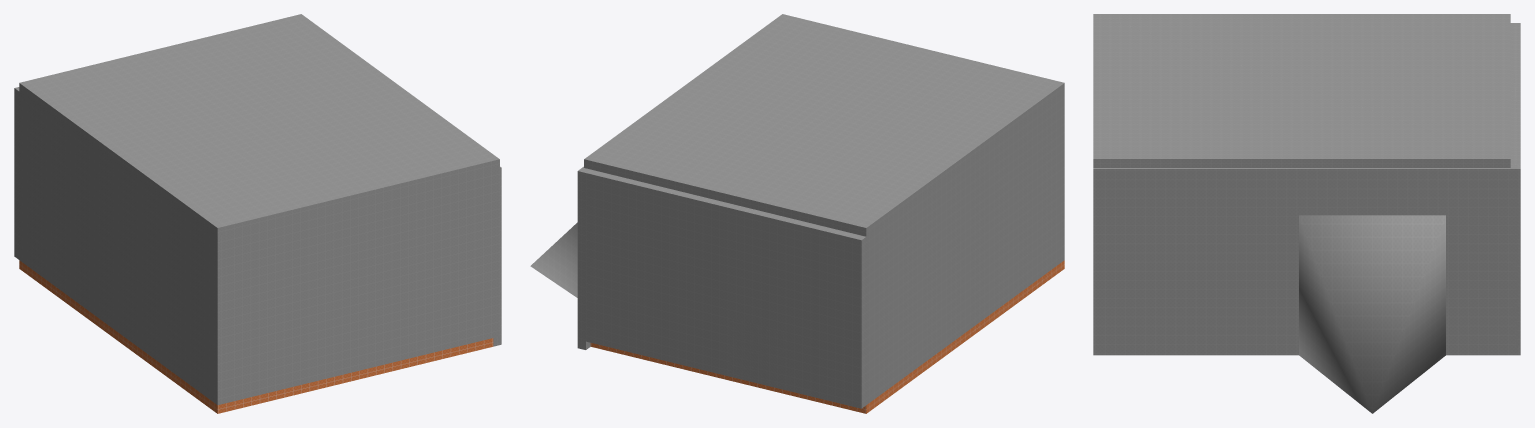
File: Kitchen.fbx
3 renders of one model, left to right at view 1: azimuth 30°, elevation 25°; view 2: azimuth 150°, elevation 25°; view 3: azimuth 270°, elevation 25°, orthographic. The views are drawn at different scales.
Visible parts, largest first — view 1: QBlock.109, QBlock.077, QBlock.075, QBlock.079, QBlock.076; view 2: QBlock.109, QBlock.076, QBlock.075, QBlock.101, QBlock.079, QBlock.074, QBlock.009; view 3: QBlock.109, QBlock.009, QBlock.074, QBlock.076.
Boxes of the visible parts, left/top/right/bottom form: QBlock.109: left=19, top=14, right=499, bottom=236; QBlock.077: left=226, top=168, right=499, bottom=402; QBlock.075: left=19, top=92, right=225, bottom=405; QBlock.079: left=19, top=260, right=493, bottom=413; QBlock.076: left=14, top=87, right=19, bottom=259; QBlock.109: left=584, top=14, right=1064, bottom=236; QBlock.076: left=578, top=168, right=866, bottom=408; QBlock.075: left=866, top=92, right=1064, bottom=404; QBlock.101: left=730, top=318, right=844, bottom=396; QBlock.079: left=590, top=260, right=1064, bottom=413; QBlock.074: left=530, top=222, right=577, bottom=297; QBlock.009: left=577, top=166, right=590, bottom=349; QBlock.109: left=1093, top=14, right=1510, bottom=167; QBlock.009: left=1093, top=164, right=1520, bottom=355; QBlock.074: left=1299, top=215, right=1445, bottom=413; QBlock.076: left=1510, top=23, right=1520, bottom=346.
Bounding box in the file's own units: 24200 × 11093 × 21200.
